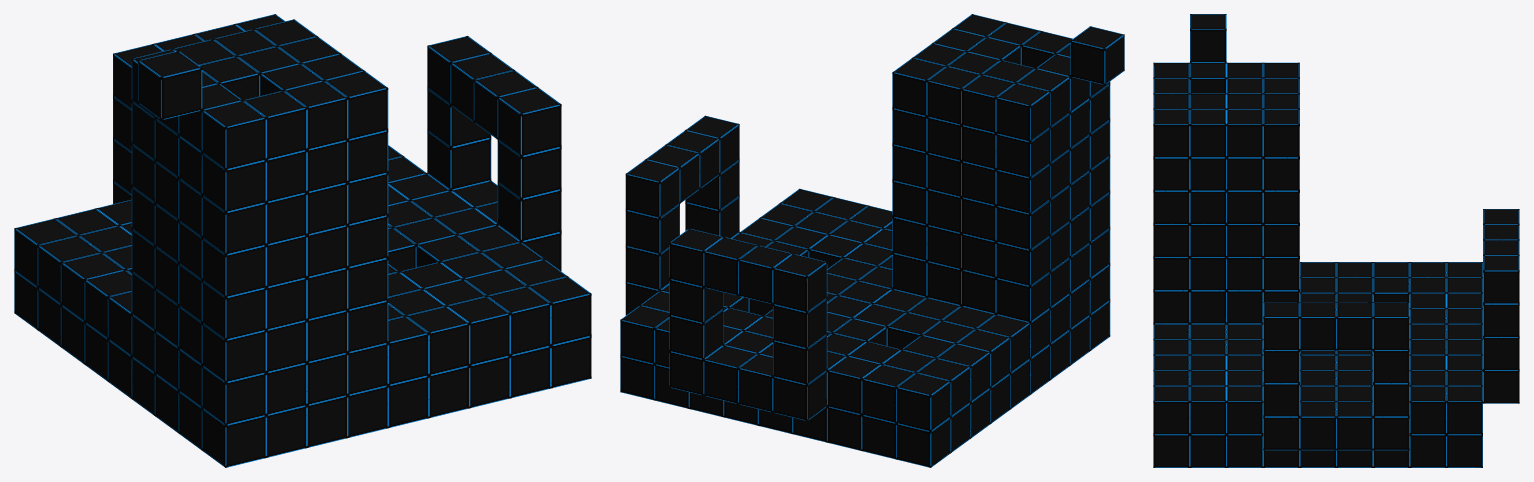
Rendered from pushoffstuffonbuttons.dae.
3 views of the same model, side by side, from view 1: azimuth 30°, elevation 25°; view 2: azimuth 150°, elevation 25°; view 3: azimuth 270°, elevation 25° (orthographic). The views are drawn at different scales.
Visible parts, largest first — view 1: pushoffstuffonbuttons; view 2: pushoffstuffonbuttons; view 3: pushoffstuffonbuttons.
Boxes of the visible parts, x1,y1,x2,y2 form: pushoffstuffonbuttons: (14,14,591,467); pushoffstuffonbuttons: (620,14,1124,467); pushoffstuffonbuttons: (1153,14,1519,467).
Size of the model in its own units: 22 by 20 by 18.
Materials: 1 (1 with a texture image).
